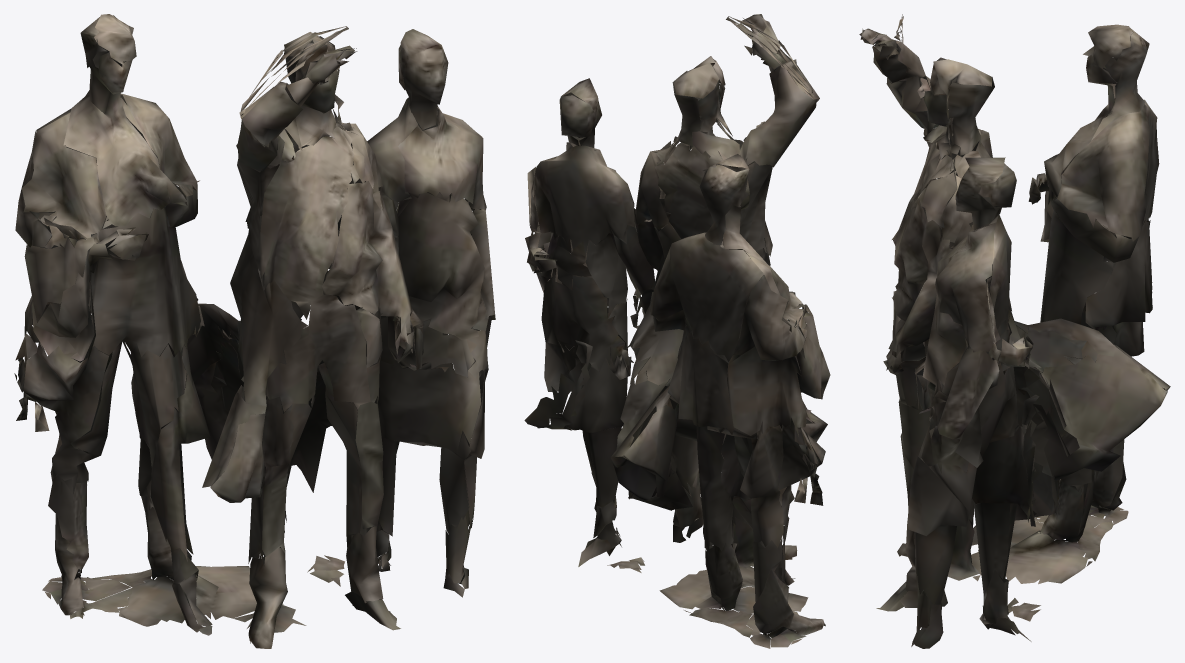
Rendered from navigators-h31-far.glb.
3 views of the same model, side by side, from view 1: azimuth 30°, elevation 25°; view 2: azimuth 150°, elevation 25°; view 3: azimuth 270°, elevation 25° (orthographic). The views are drawn at different scales.
Visible parts, largest first — view 1: navigators-h31; view 2: navigators-h31; view 3: navigators-h31.
Boxes of the visible parts, x1,y1,x2,y2 form: navigators-h31: [14, 14, 495, 648]; navigators-h31: [524, 14, 830, 648]; navigators-h31: [859, 14, 1170, 648].
Size of the model in its own units: 1.85 by 2.68 by 1.34.
1 material, 1 textured.
